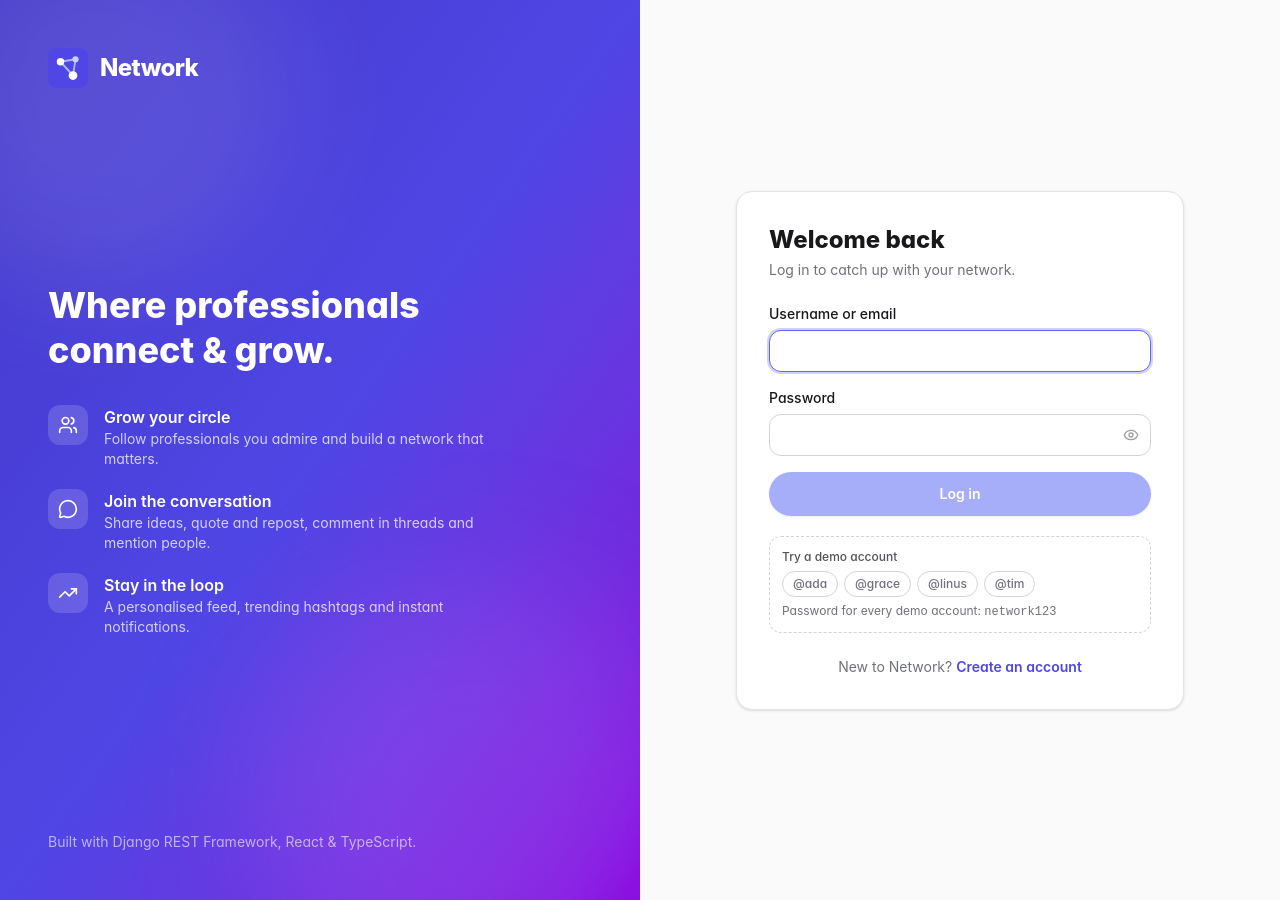
Test: LoginPage › shows the API error message on failure
Type "ada" into the field labelled "Username or email".
click(960, 350); type("ada")  # box [769, 330, 1151, 372]
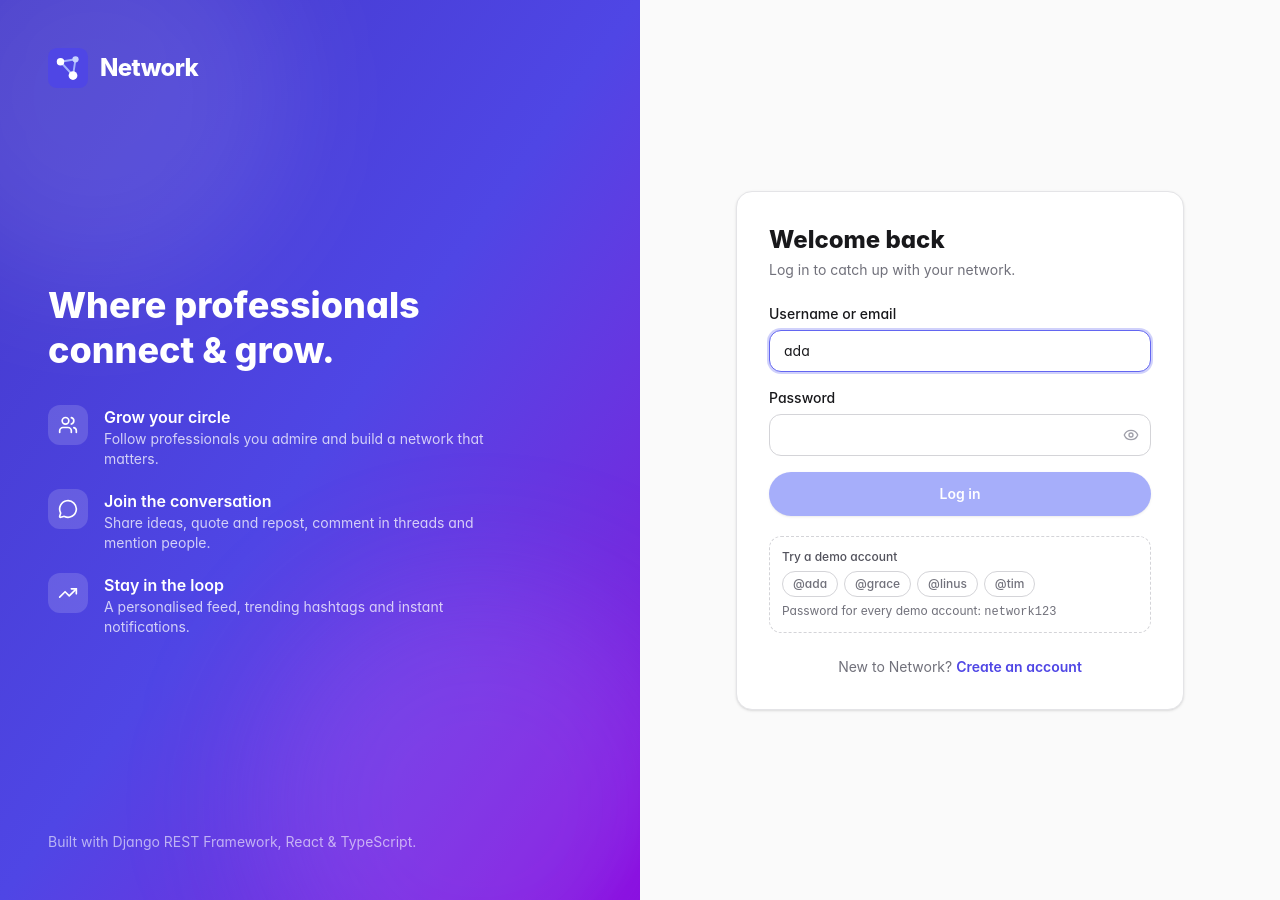
Type "wrong" into the password field labelled "Password".
click(960, 434); type("wrong")  # box [769, 414, 1151, 456]
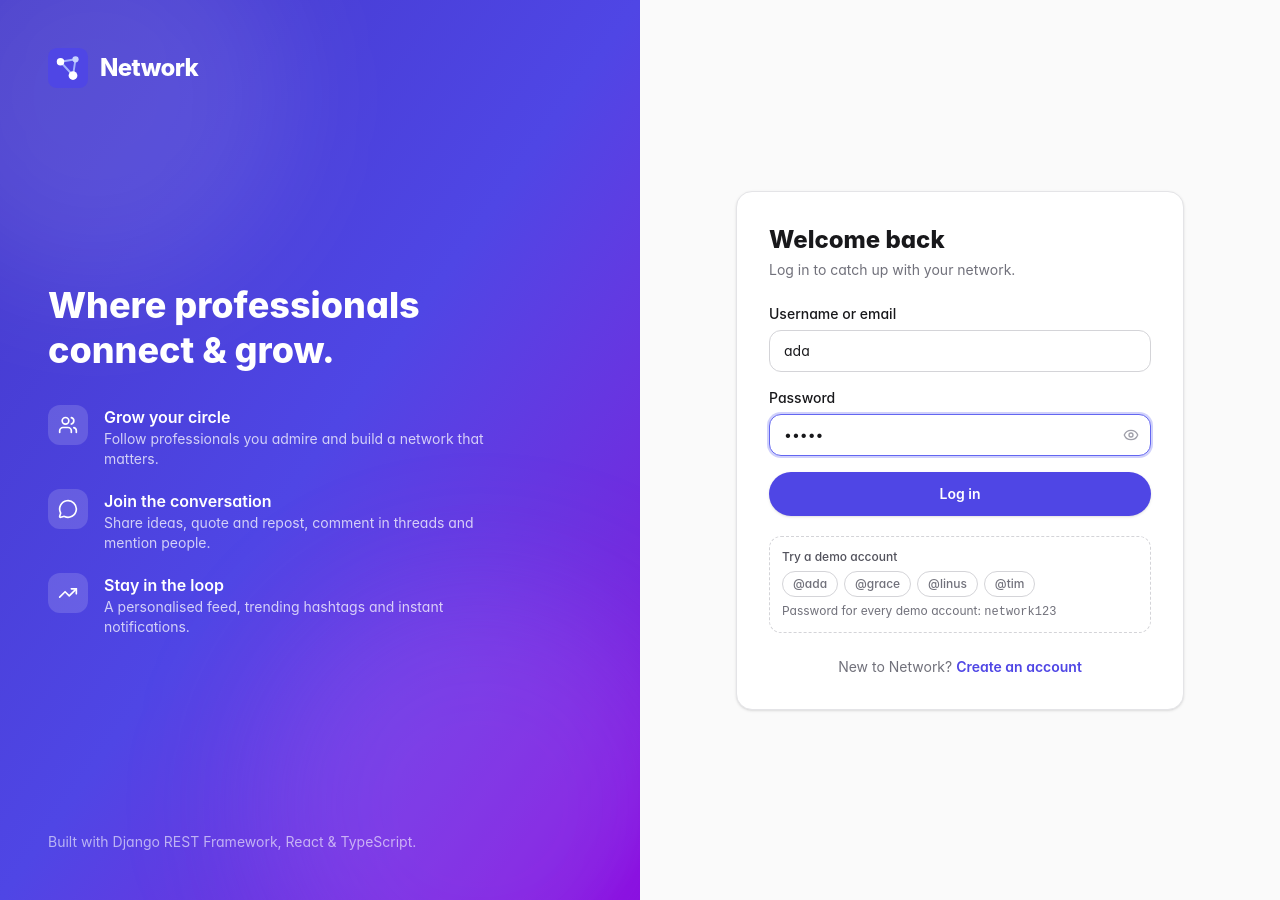
Click the button "Log in".
click(960, 494)  # box [769, 472, 1151, 516]
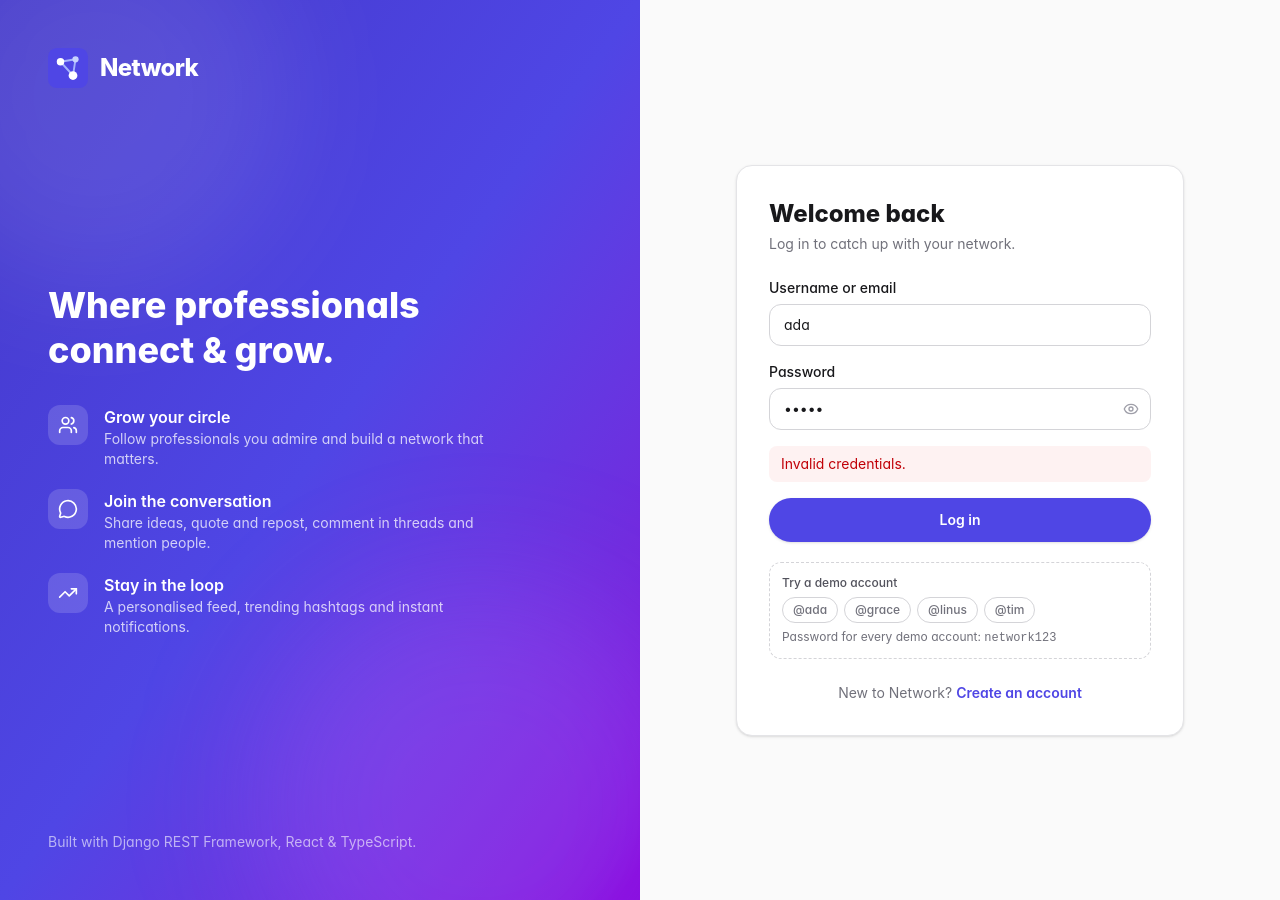
Expected: the message reads "Invalid credentials.", [781, 454, 906, 472]
